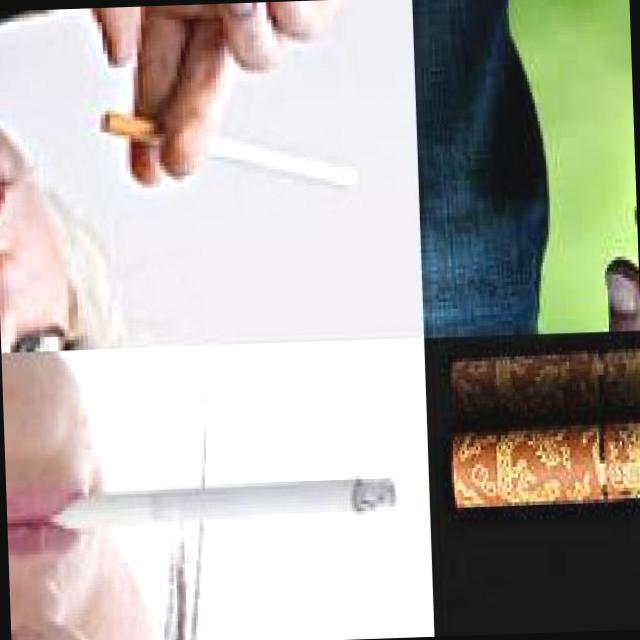cigarette: (98, 105, 356, 196), (45, 478, 398, 532), (449, 412, 640, 511)
